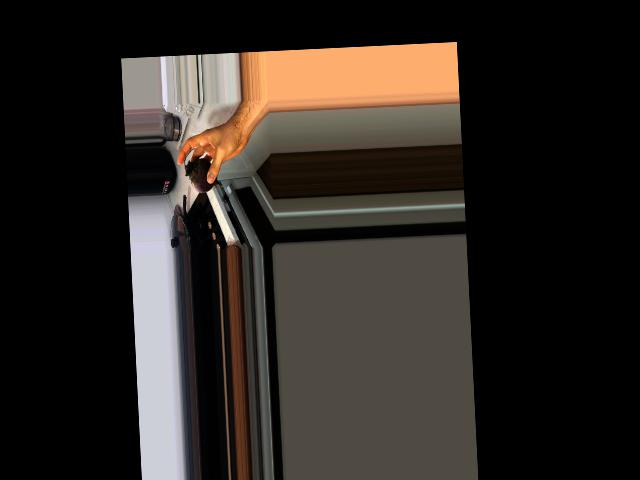beet: (184, 148, 223, 193)
